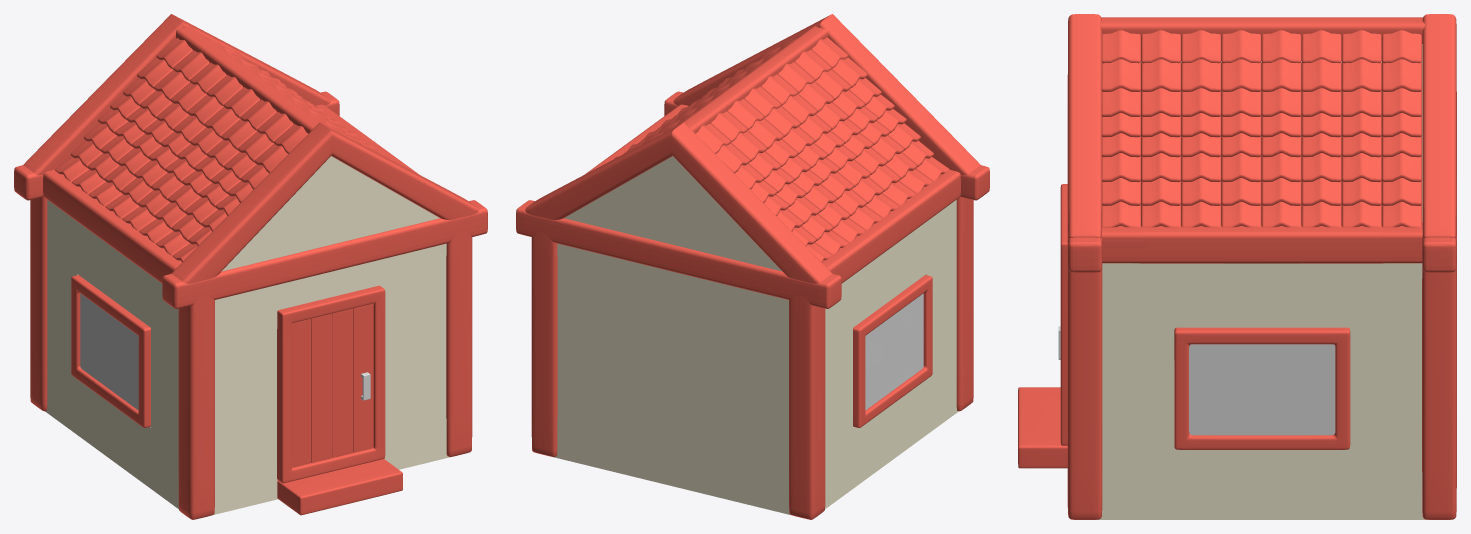
The model's file is House.fbx.
3 views of the same model, side by side, from view 1: azimuth 30°, elevation 25°; view 2: azimuth 150°, elevation 25°; view 3: azimuth 270°, elevation 25° (orthographic). The views are drawn at different scales.
Parts seen in each view (by area): view 1: House, Plane.001, Log_1, Log_4, Door, Log_3, Cube.002, Log_2, Plane.004, Cube.001, Plane.002, Log_5; view 2: House, Plane.001, Log_1, Log_4, Log_3, Log_2, Plane.004, Plane.002, Log_5; view 3: Plane.001, House, Log_1, Log_4, Plane.004, Log_2, Plane.002, Log_5, Cube.001, Log_3, Cube.002.
Part boxes in pixels (left/top/right/bottom): House: left=45, top=156, right=450, bottom=514; Plane.001: left=55, top=38, right=390, bottom=262; Log_1: left=30, top=197, right=472, bottom=519; Log_4: left=23, top=14, right=478, bottom=283; Door: left=292, top=303, right=373, bottom=467; Log_3: left=14, top=91, right=487, bottom=308; Cube.002: left=277, top=285, right=385, bottom=483; Log_2: left=43, top=104, right=417, bottom=283; Plane.004: left=80, top=293, right=138, bottom=410; Cube.001: left=277, top=459, right=402, bottom=515; Plane.002: left=71, top=275, right=150, bottom=427; Log_5: left=176, top=26, right=323, bottom=133; House: left=553, top=156, right=958, bottom=514; Plane.001: left=614, top=37, right=949, bottom=262; Log_1: left=531, top=197, right=973, bottom=519; Log_4: left=525, top=14, right=980, bottom=283; Log_3: left=516, top=91, right=989, bottom=308; Log_2: left=586, top=104, right=960, bottom=283; Plane.004: left=865, top=293, right=923, bottom=410; Plane.002: left=853, top=275, right=932, bottom=427; Log_5: left=680, top=26, right=827, bottom=133; Plane.001: left=1101, top=30, right=1421, bottom=227; House: left=1073, top=44, right=1427, bottom=519; Log_1: left=1067, top=226, right=1456, bottom=519; Log_4: left=1068, top=14, right=1456, bottom=238; Plane.004: left=1189, top=344, right=1335, bottom=435; Log_2: left=1101, top=221, right=1422, bottom=263; Plane.002: left=1174, top=327, right=1350, bottom=449; Log_5: left=1099, top=17, right=1425, bottom=43; Cube.001: left=1018, top=387, right=1067, bottom=468; Log_3: left=1067, top=75, right=1456, bottom=272; Cube.002: left=1060, top=184, right=1067, bottom=445.
Bounding box in the file's own units: 230 × 249 × 232.
